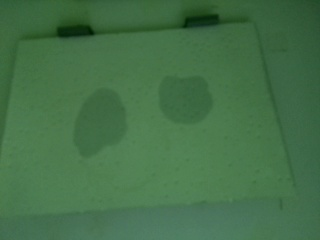Water_detected: (82, 102, 118, 140), (173, 76, 211, 112)
